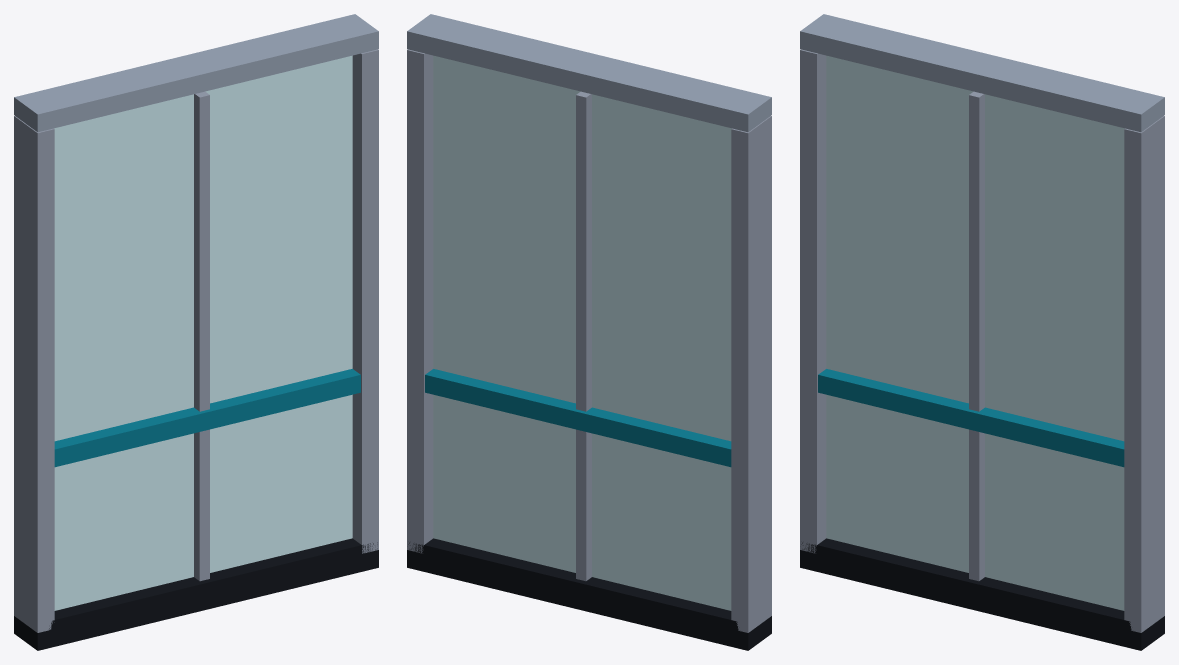
Rendered from SM_Glass_Wall_2x3.glb.
3 renders of one model, left to right at view 1: azimuth 30°, elevation 25°; view 2: azimuth 150°, elevation 25°; view 3: azimuth 330°, elevation 25°, orthographic.
Parts seen in each view (by area): view 1: SM_Glass_Wall_2x3-col; view 2: SM_Glass_Wall_2x3-col; view 3: SM_Glass_Wall_2x3-col.
Boxes of the visible parts, box(x1,y1,x2,y2) form: SM_Glass_Wall_2x3-col: box(14, 14, 378, 650); SM_Glass_Wall_2x3-col: box(407, 14, 771, 650); SM_Glass_Wall_2x3-col: box(800, 14, 1164, 650).
Bounding box in the file's own units: 2 × 3 × 0.24.
